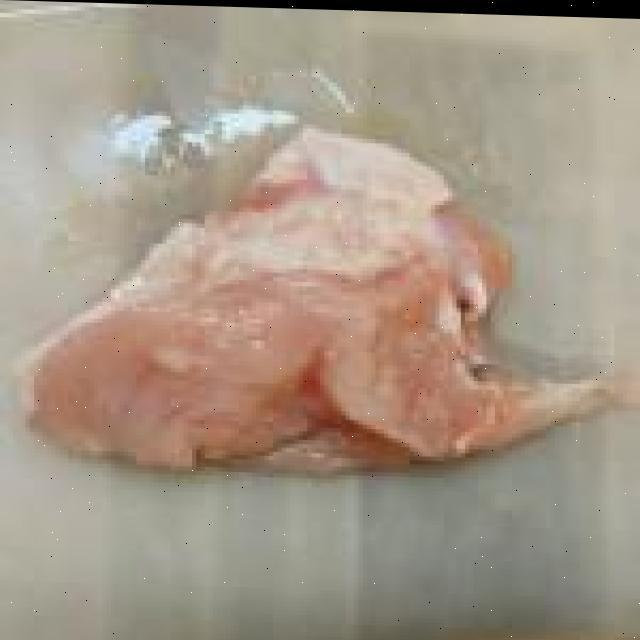breast: (46, 131, 552, 478)
